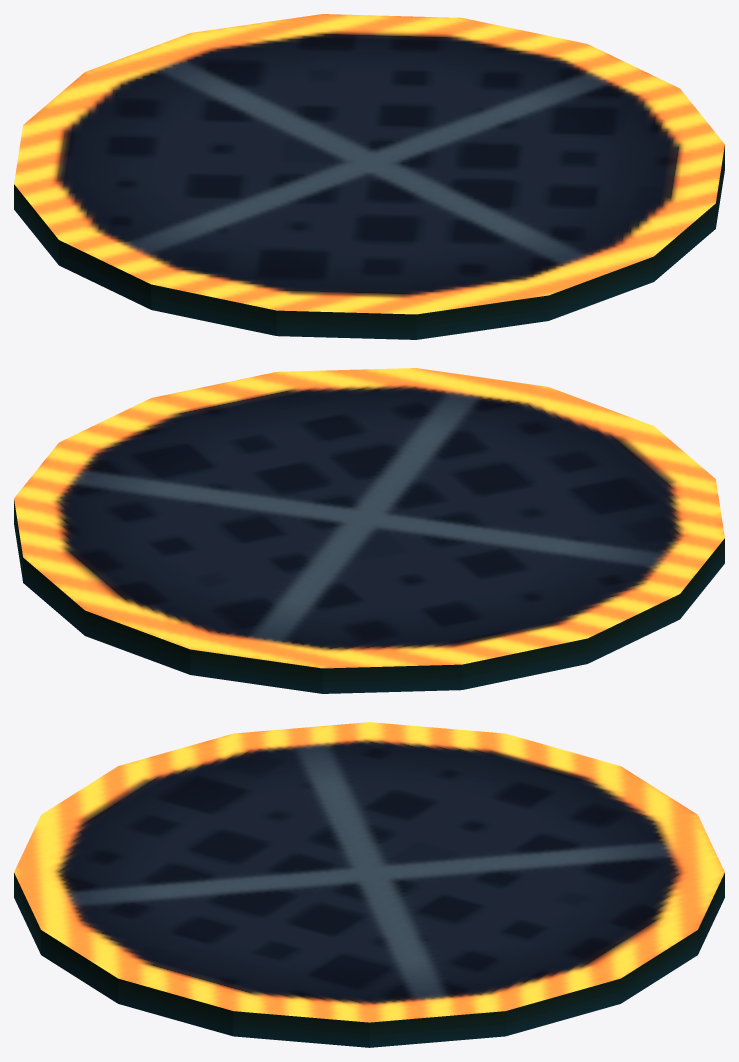
Rendered from voting_door01.gltf.
The picture shows the model from 3 angles, top to bottom: view 1: azimuth 30°, elevation 25°; view 2: azimuth 150°, elevation 25°; view 3: azimuth 270°, elevation 25°; orthographic projection.
Visible parts, largest first — view 1: votingdoor01; view 2: votingdoor01; view 3: votingdoor01.
Boxes of the visible parts, x1,y1,x2,y2 form: votingdoor01: [14, 14, 724, 339]; votingdoor01: [14, 368, 724, 693]; votingdoor01: [14, 722, 724, 1047].
Size of the model in its own units: 3.25 by 0.1276 by 3.25.
1 material, 1 textured.
